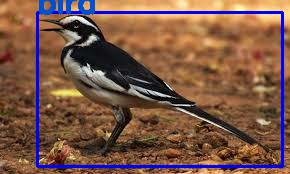bird: (36, 11, 282, 165)
